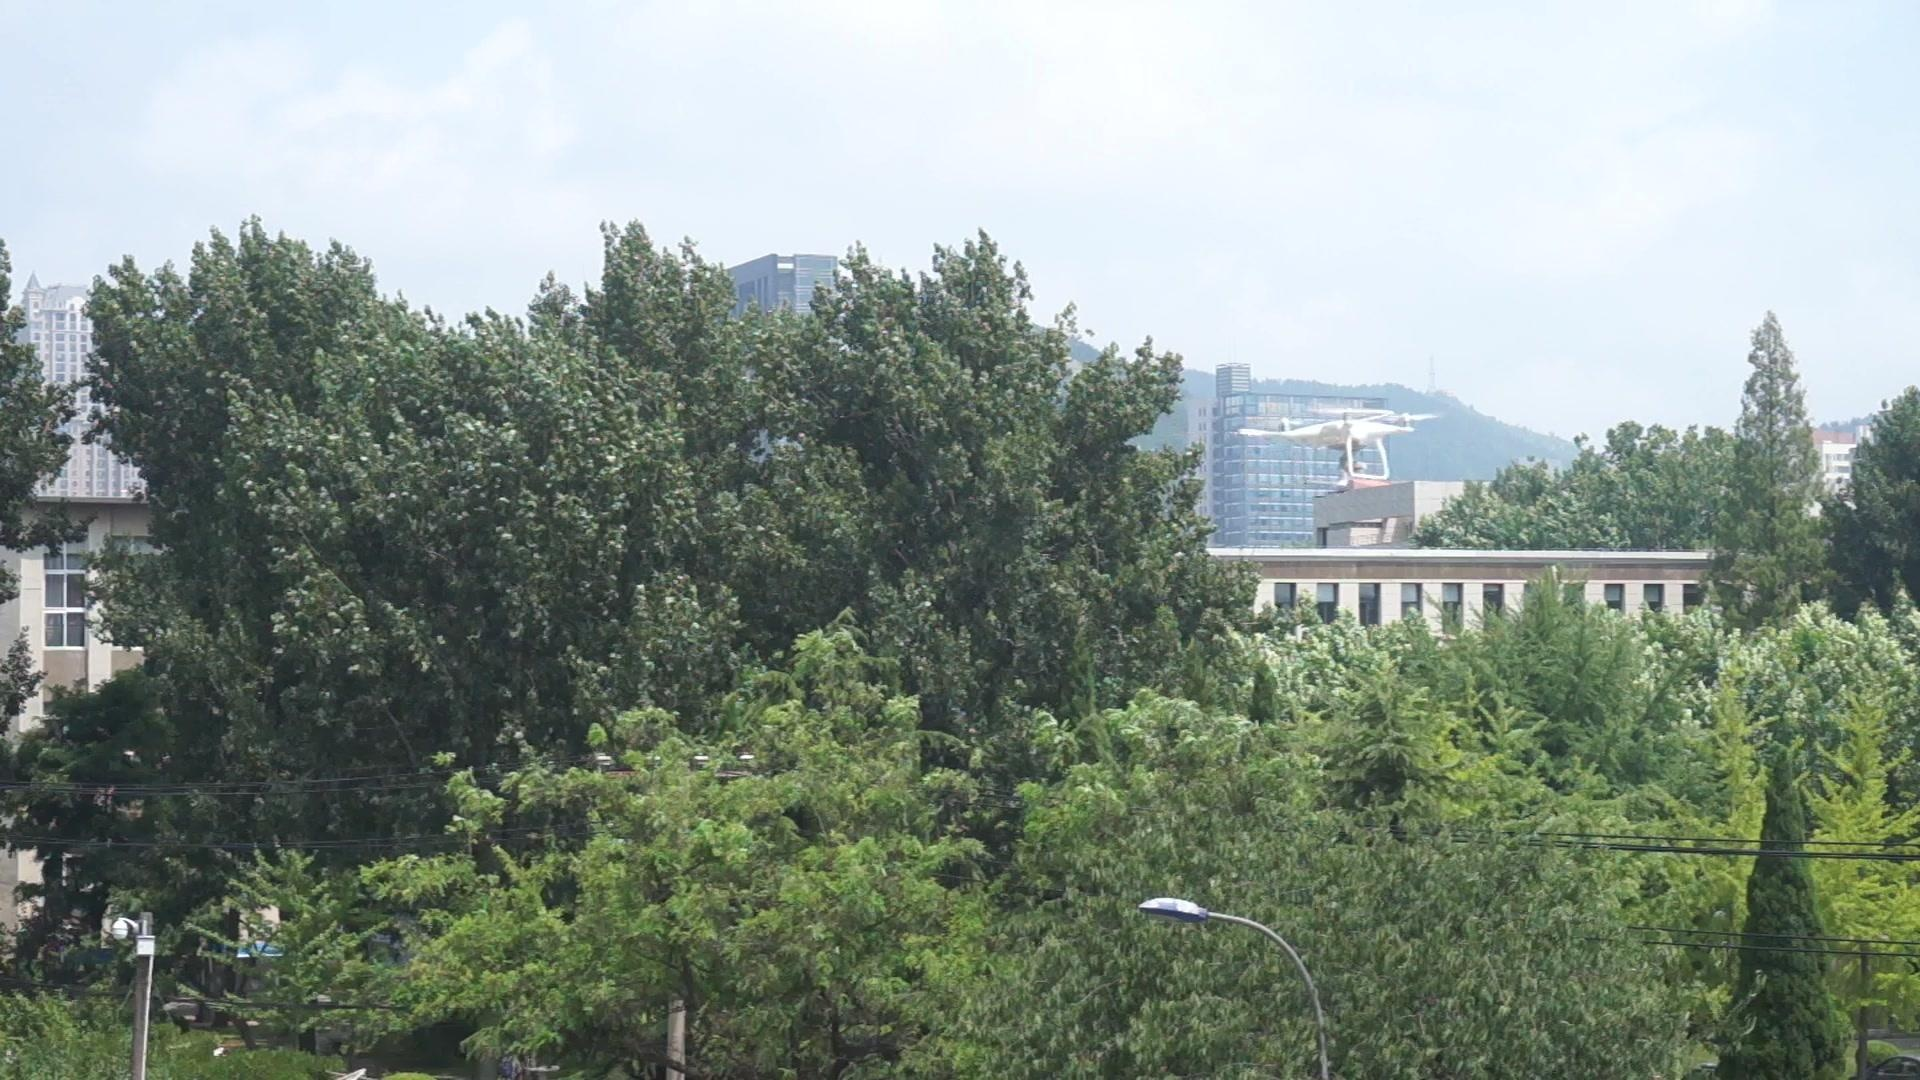UAV: (1240, 407, 1440, 480)
